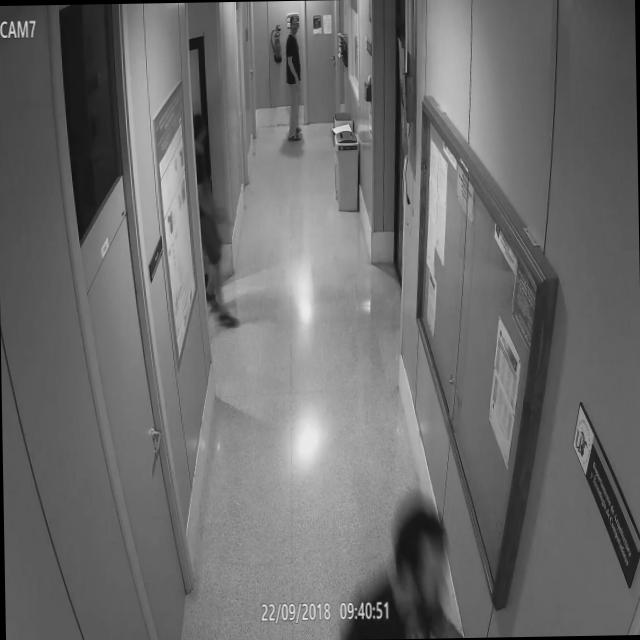gun: (208, 192, 233, 241)
person: (336, 494, 462, 640), (278, 9, 309, 149)
person with a gun: (184, 105, 237, 350)
